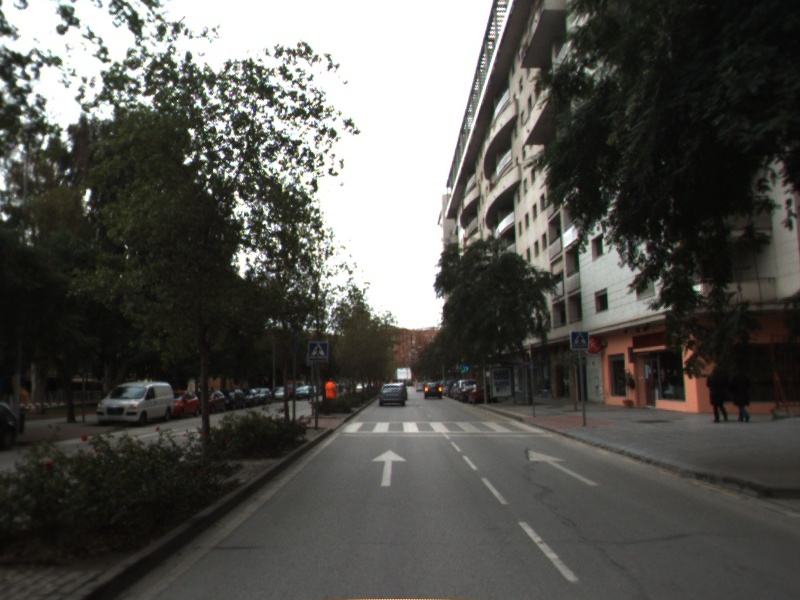STRAIGHT: (525, 447, 602, 488), (369, 447, 410, 488)
